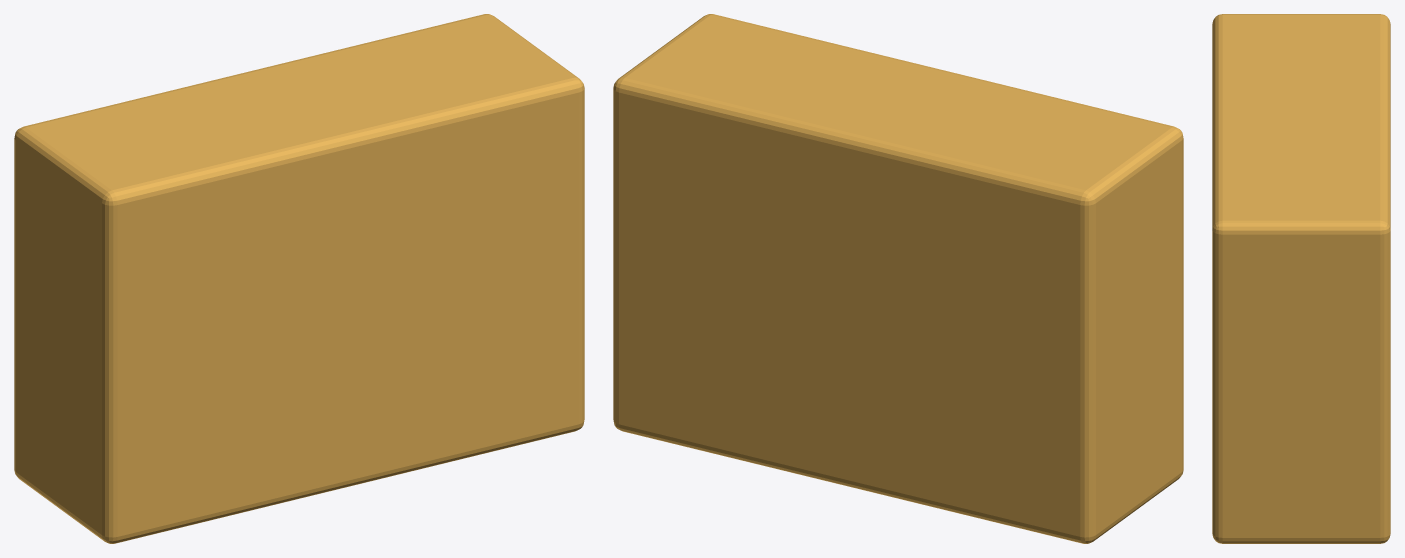
File: blood-compartment.glb
The picture shows the model from 3 angles, left to right: view 1: azimuth 30°, elevation 25°; view 2: azimuth 150°, elevation 25°; view 3: azimuth 270°, elevation 25°; orthographic projection. The views are drawn at different scales.
Parts seen in each view (by area): view 1: plasma; view 2: plasma; view 3: plasma.
Part boxes in pixels (x1,y1,x2,y2): plasma: [14, 14, 584, 543]; plasma: [613, 14, 1183, 543]; plasma: [1212, 14, 1390, 543].
Size of the model in its own units: 8.68 by 6.08 by 3.05.
